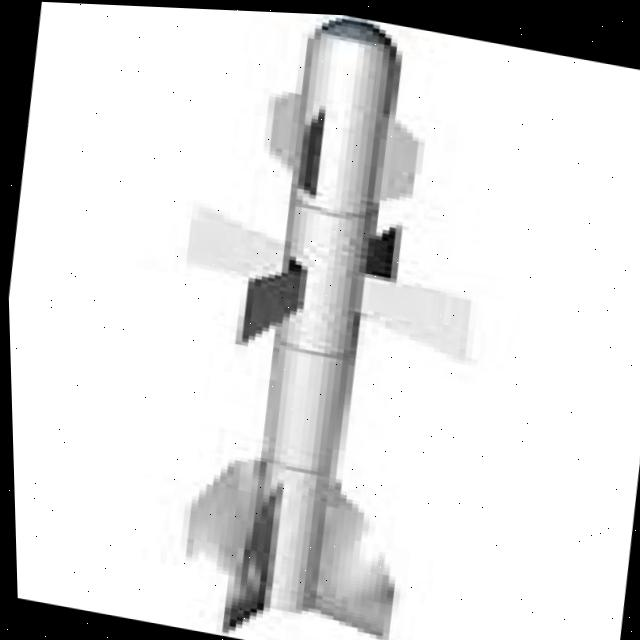missile: (118, 4, 520, 640)
